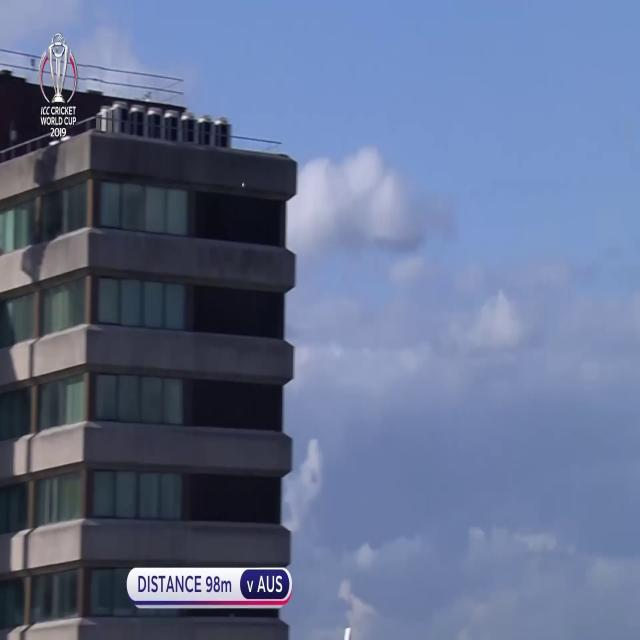ball: (240, 181, 247, 190)
